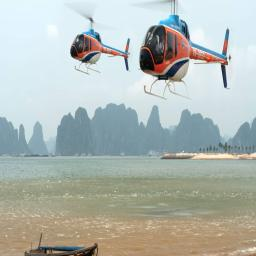helicopter: (137, 1, 235, 102), (63, 1, 132, 86)
